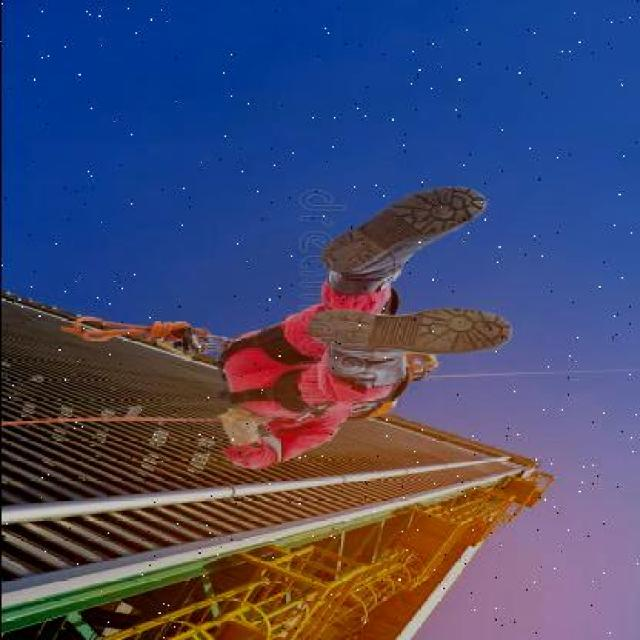shoes: (300, 188, 489, 295), (300, 305, 514, 386)
